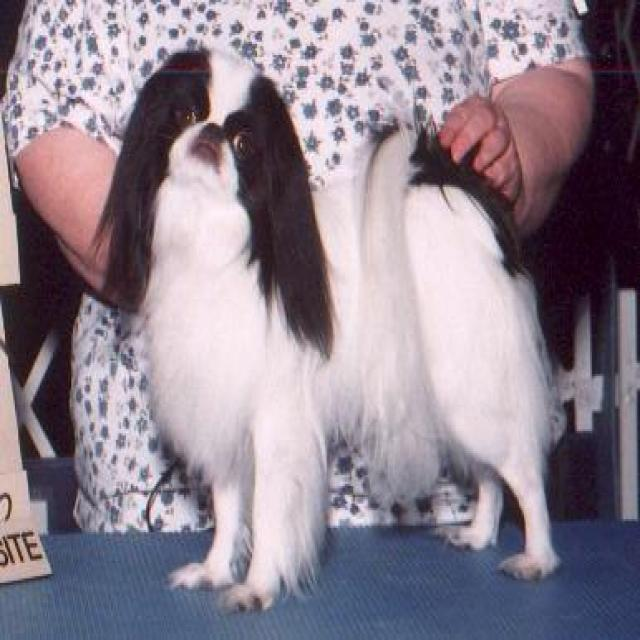husky: (85, 33, 567, 618)
